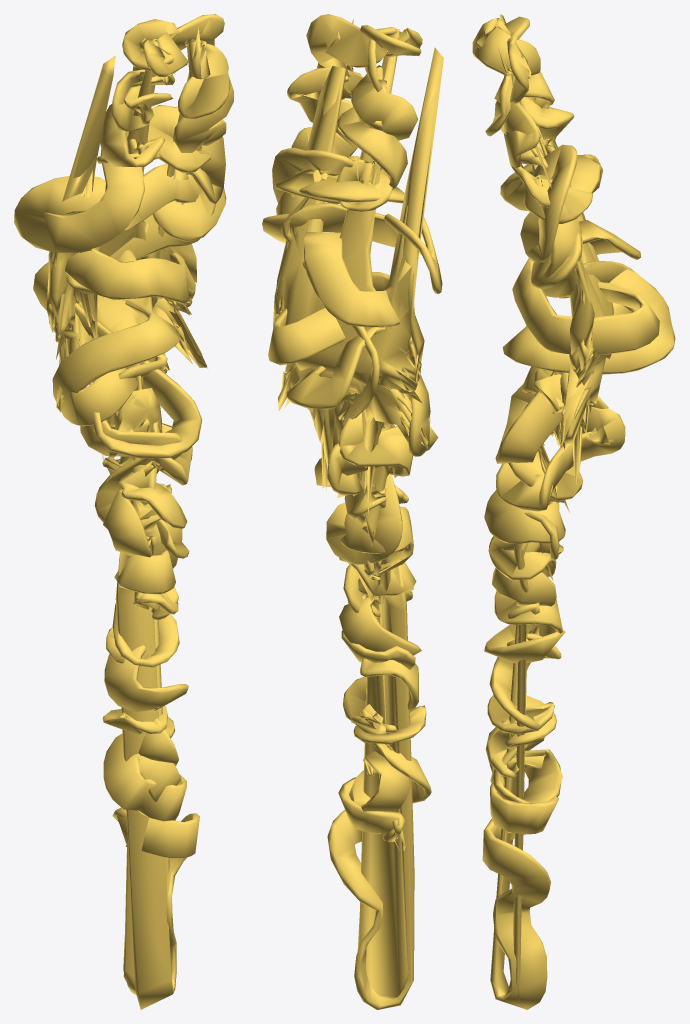
Rendered from fetuccini_15.2_90cms.gltf.
The picture shows the model from 3 angles, left to right: view 1: azimuth 30°, elevation 25°; view 2: azimuth 150°, elevation 25°; view 3: azimuth 270°, elevation 25°; orthographic projection.
Parts seen in each view (by area): view 1: Plane; view 2: Plane; view 3: Plane.
Part boxes in pixels (left/top/right/bottom): Plane: left=14, top=14, right=233, bottom=1009; Plane: left=262, top=14, right=443, bottom=1009; Plane: left=472, top=14, right=675, bottom=1009.
Size of the model in its own units: 0.1845 by 0.9 by 0.1675.
